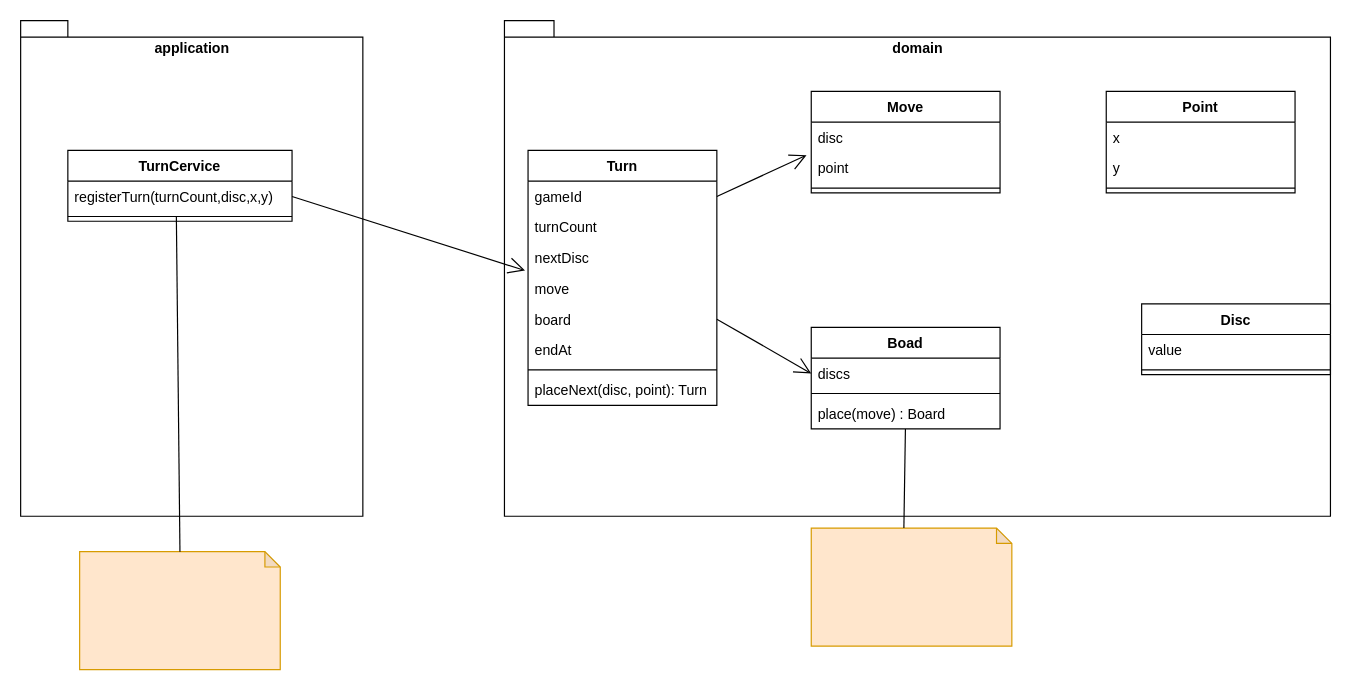
Some shapes in this 1351 by 690 pixel diagram are drawn without their labels. The shapes that lost their labels are listed below. From the top down, each one's centre as x and y in pixels, then its label:
At point (911, 586): "placeの内部では ・盤面に置けるかチェック ・石を置く ・ひっくり返す".
At point (179, 610): "・一つ前のターンを取得する ・石を置く ・ターンを保存する".
